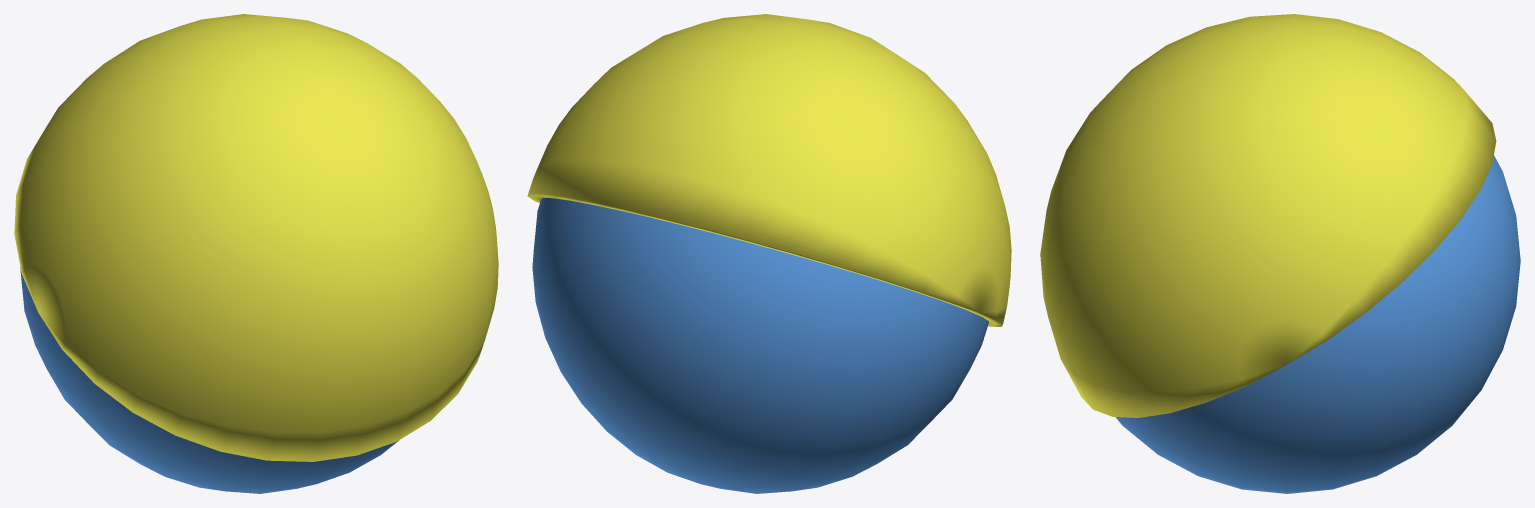
The model's file is EyeballandLid.fbx.
3 renders of one model, left to right at view 1: azimuth 30°, elevation 25°; view 2: azimuth 150°, elevation 25°; view 3: azimuth 270°, elevation 25°, orthographic.
Visible parts, largest first — view 1: Eyelid, Eyeball; view 2: Eyelid, Eyeball; view 3: Eyelid, Eyeball.
Boxes of the visible parts, x1,y1,x2,y2 form: Eyelid: (14, 14, 498, 461); Eyeball: (20, 267, 399, 493); Eyelid: (527, 14, 1011, 326); Eyeball: (532, 198, 988, 493); Eyelid: (1040, 14, 1496, 417); Eyeball: (1115, 155, 1520, 493).
Size of the model in its own units: 212 by 206 by 206.
